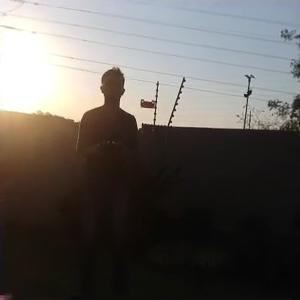follow: (72, 59, 142, 298)
